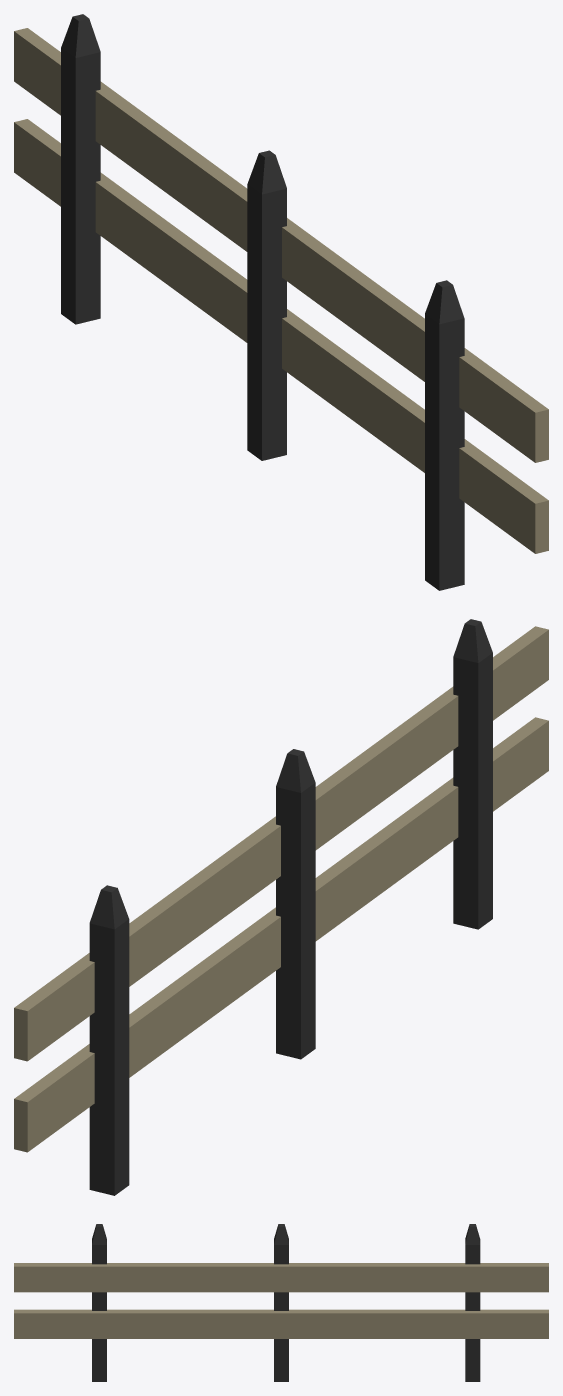
Rendered from Fence.obj.
3 views of the same model, one above another, from view 1: azimuth 30°, elevation 25°; view 2: azimuth 150°, elevation 25°; view 3: azimuth 270°, elevation 25° (orthographic). The views are drawn at different scales.
Visible parts, largest first — view 1: Cube.001, Cube; view 2: Cube.001, Cube; view 3: Cube.001, Cube.
Part boxes in pixels (left/top/right/bottom): Cube.001: left=14, top=28, right=548, bottom=553; Cube: left=61, top=14, right=464, bottom=590; Cube.001: left=14, top=626, right=548, bottom=1152; Cube: left=89, top=619, right=492, bottom=1195; Cube.001: left=14, top=1263, right=548, bottom=1338; Cube: left=92, top=1224, right=480, bottom=1381.
Bounding box in the file's own units: 1.4 × 11.88 × 37.59.
